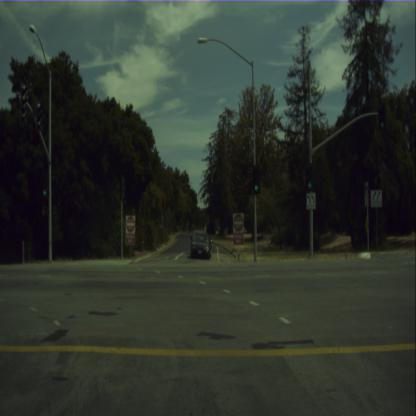GreenLeft: (253, 165, 260, 193), (42, 175, 48, 200)
GreenRight: (378, 102, 385, 131), (306, 163, 312, 191)
